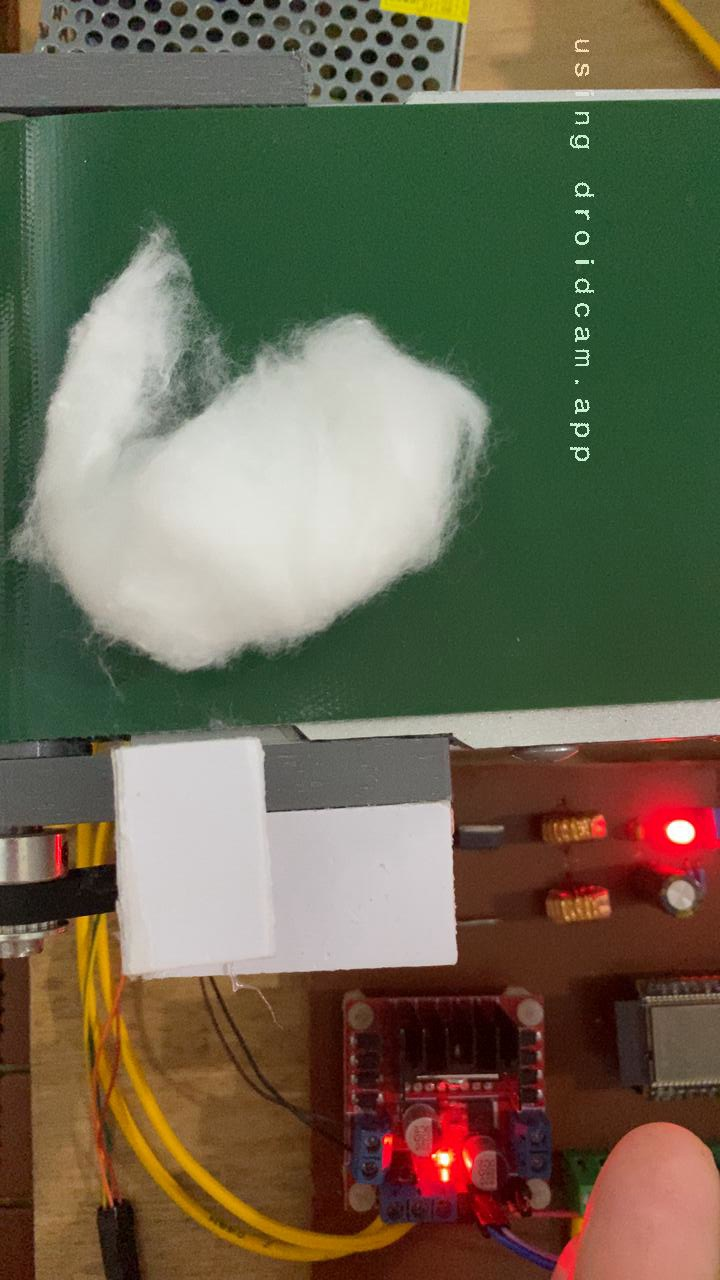cotton: (4, 221, 497, 680)
